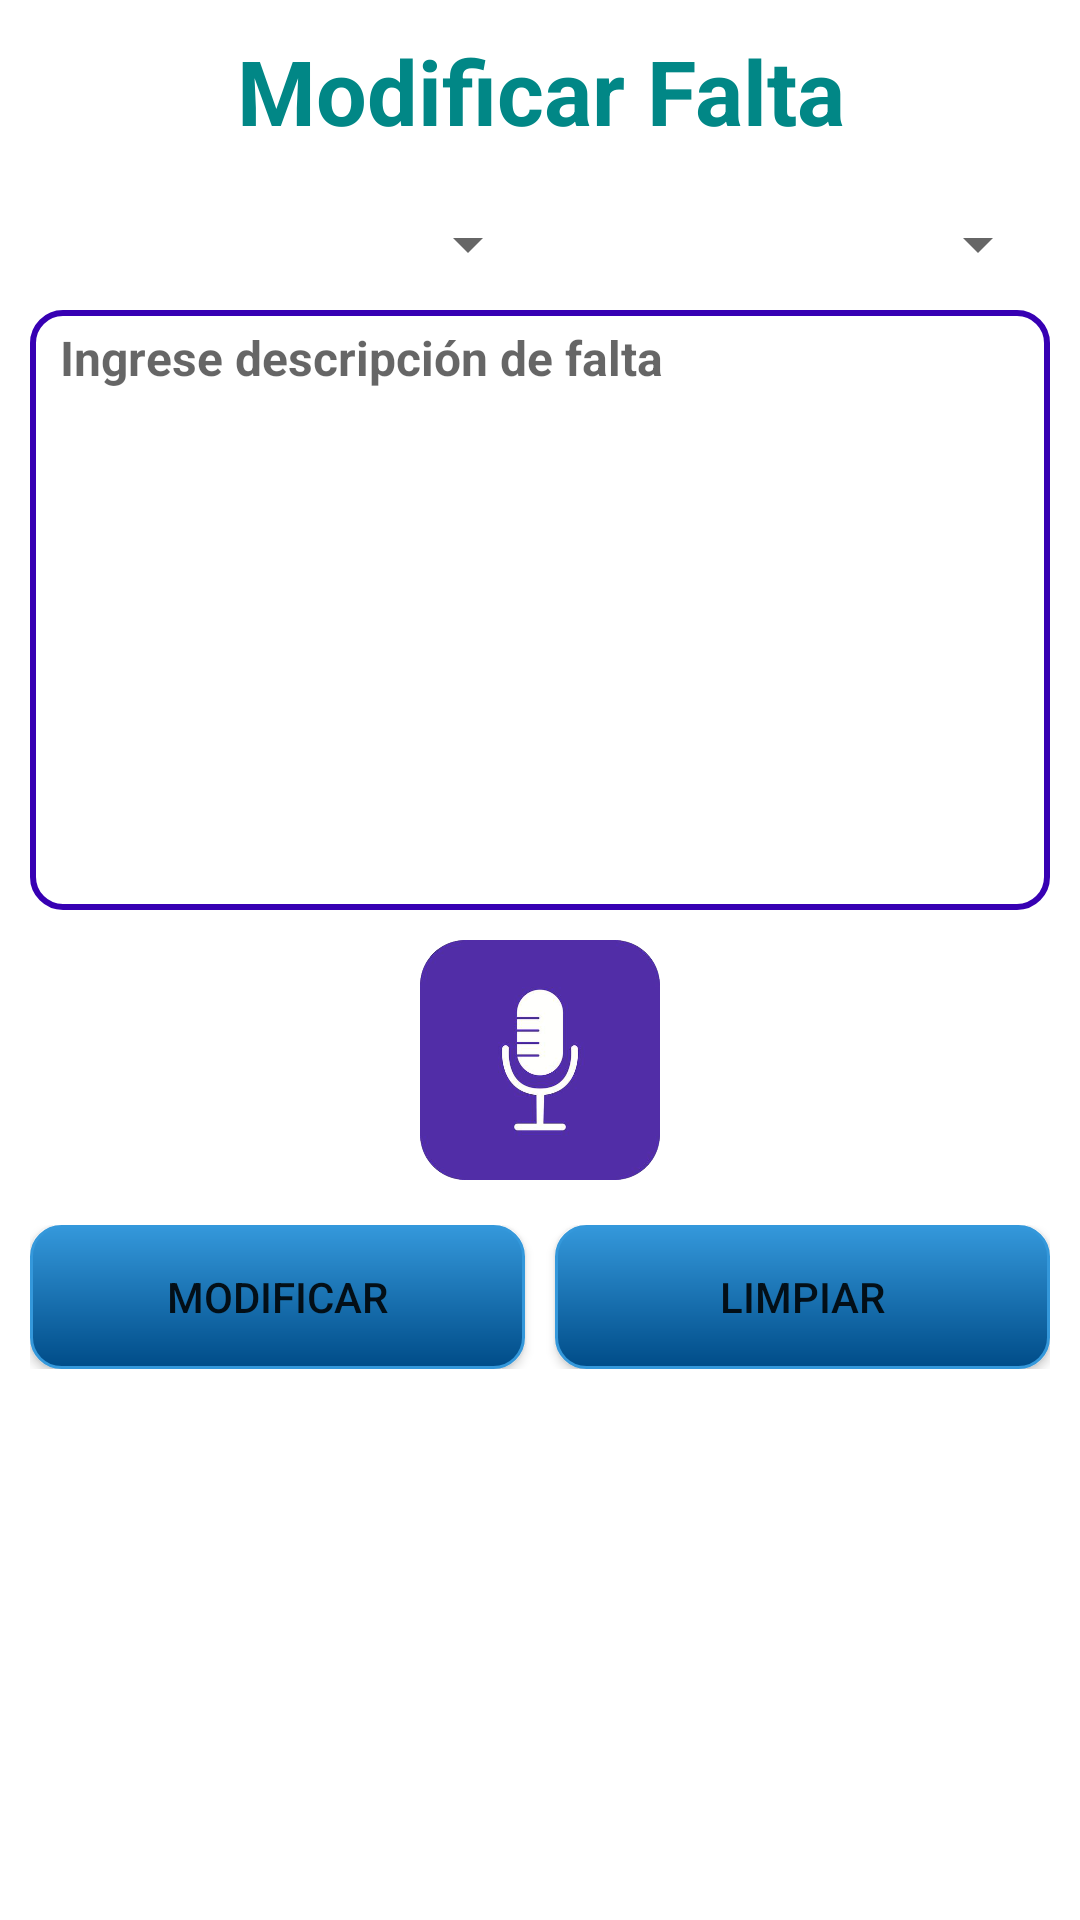

Named icons in this screenshot (1080px×1920px) and their centers, point (x, y):
mic: point (540, 1060)
